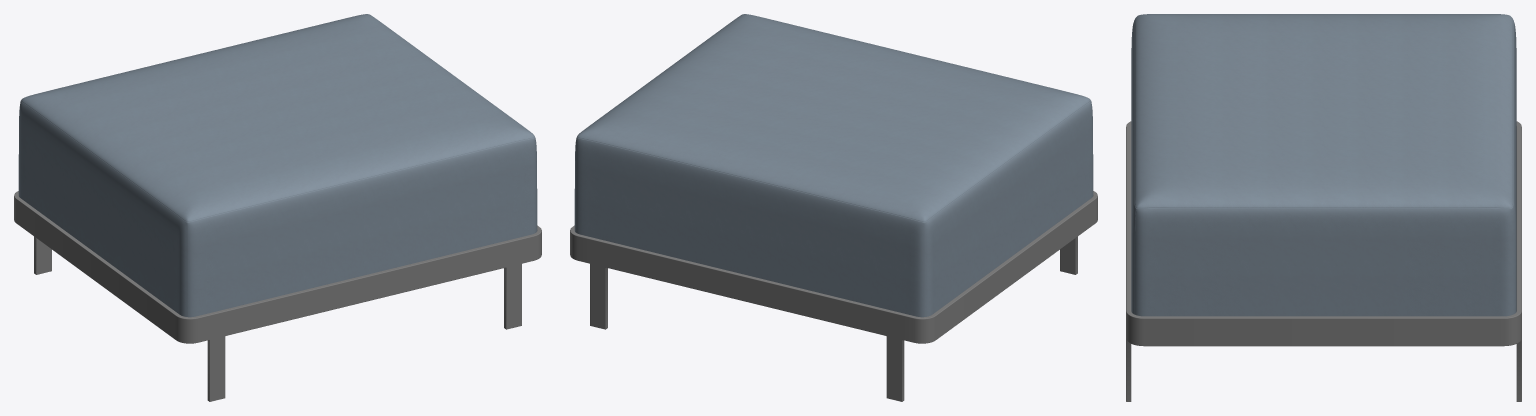
The model's file is chair2.obj.
3 renders of one model, left to right at view 1: azimuth 30°, elevation 25°; view 2: azimuth 150°, elevation 25°; view 3: azimuth 270°, elevation 25°, orthographic. The views are drawn at different scales.
Parts seen in each view (by area): view 1: ka_design_m4_pouf; view 2: ka_design_m4_pouf; view 3: ka_design_m4_pouf.
Part boxes in pixels (<box>): ka_design_m4_pouf: <box>14,14,541,401</box>; ka_design_m4_pouf: <box>570,14,1097,401</box>; ka_design_m4_pouf: <box>1126,14,1521,401</box>.
Bounding box in the file's own units: 92 × 46.5 × 77.
2 materials, 1 textured.
